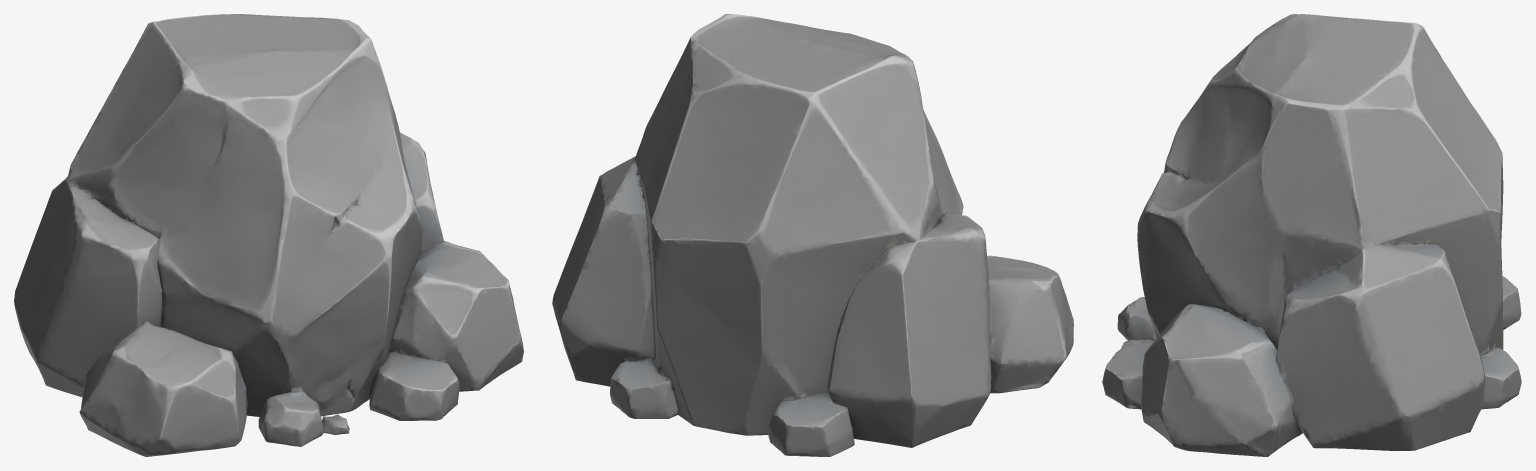
The model's file is rock_small.glb.
The picture shows the model from 3 angles, left to right: view 1: azimuth 30°, elevation 25°; view 2: azimuth 150°, elevation 25°; view 3: azimuth 270°, elevation 25°; orthographic projection. The views are drawn at different scales.
Visible parts, largest first — view 1: tripo_node_526036c8-622b-49f8-a0d5-b025bf8e848b; view 2: tripo_node_526036c8-622b-49f8-a0d5-b025bf8e848b; view 3: tripo_node_526036c8-622b-49f8-a0d5-b025bf8e848b.
Boxes of the visible parts, x1,y1,x2,y2 form: tripo_node_526036c8-622b-49f8-a0d5-b025bf8e848b: [14, 14, 523, 456]; tripo_node_526036c8-622b-49f8-a0d5-b025bf8e848b: [552, 14, 1073, 456]; tripo_node_526036c8-622b-49f8-a0d5-b025bf8e848b: [1102, 14, 1521, 456].
Bounding box in the file's own units: 1 × 0.7008 × 0.8597.
1 material, 1 textured.
